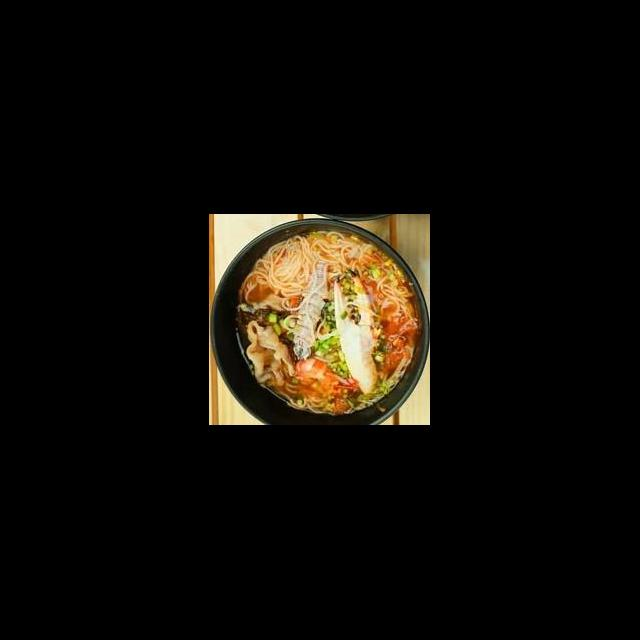bun: (244, 228, 380, 314), (368, 262, 422, 340)
tom tit: (290, 254, 332, 364)
